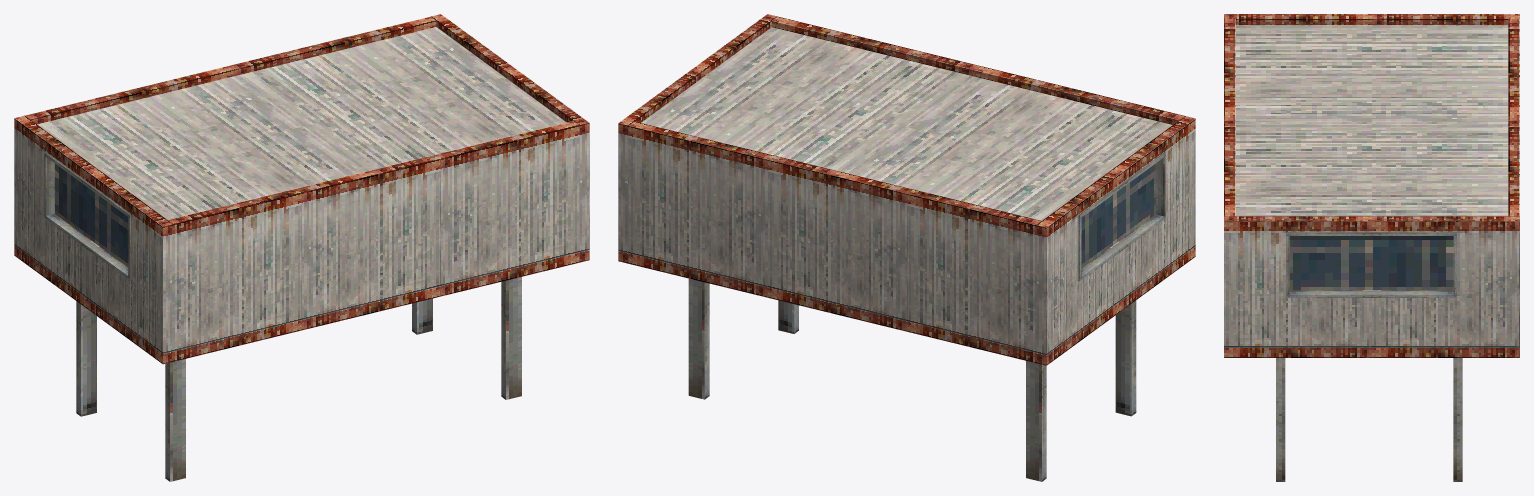
The model's file is building_5.glb.
3 renders of one model, left to right at view 1: azimuth 30°, elevation 25°; view 2: azimuth 150°, elevation 25°; view 3: azimuth 270°, elevation 25°, orthographic.
Parts seen in each view (by area): view 1: Building_5; view 2: Building_5; view 3: Building_5.
Boxes of the visible parts, x1,y1,x2,y2 form: Building_5: (14,14,589,481); Building_5: (618,14,1195,481); Building_5: (1224,14,1519,481).
Size of the model in its own units: 8.71 by 5.46 by 5.21.
Materials: 1 (1 with a texture image).
